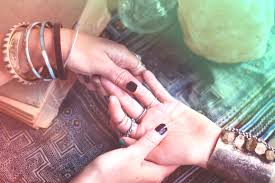palm: (146, 104, 204, 161)
